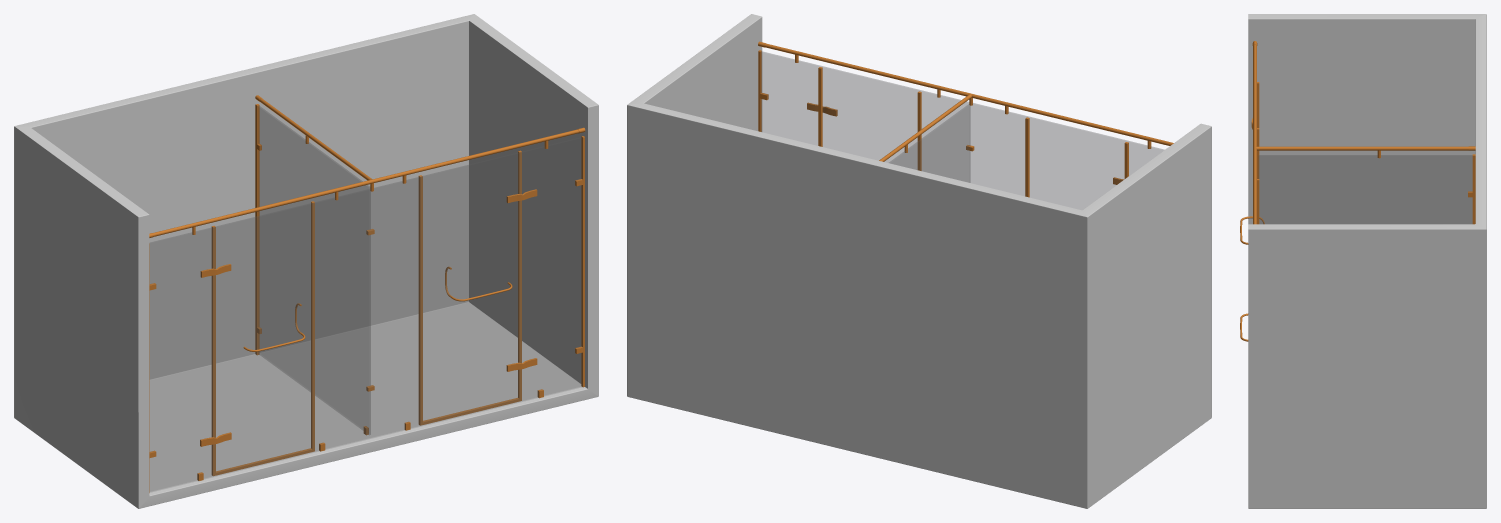
Rendered from Shower_enclosures_011(Brushed bronze).gltf.
3 renders of one model, left to right at view 1: azimuth 30°, elevation 25°; view 2: azimuth 150°, elevation 25°; view 3: azimuth 270°, elevation 25°, orthographic. The views are drawn at different scales.
Parts seen in each view (by area): view 1: Shower_enclosures_011.007; view 2: Shower_enclosures_011.007; view 3: Shower_enclosures_011.007.
Boxes of the visible parts, x1,y1,x2,y2 form: Shower_enclosures_011.007: (14,14,598,508); Shower_enclosures_011.007: (627,14,1211,508); Shower_enclosures_011.007: (1240,14,1486,508).
Size of the model in its own units: 3.31 by 2 by 1.6.
2 materials, 2 textured.
